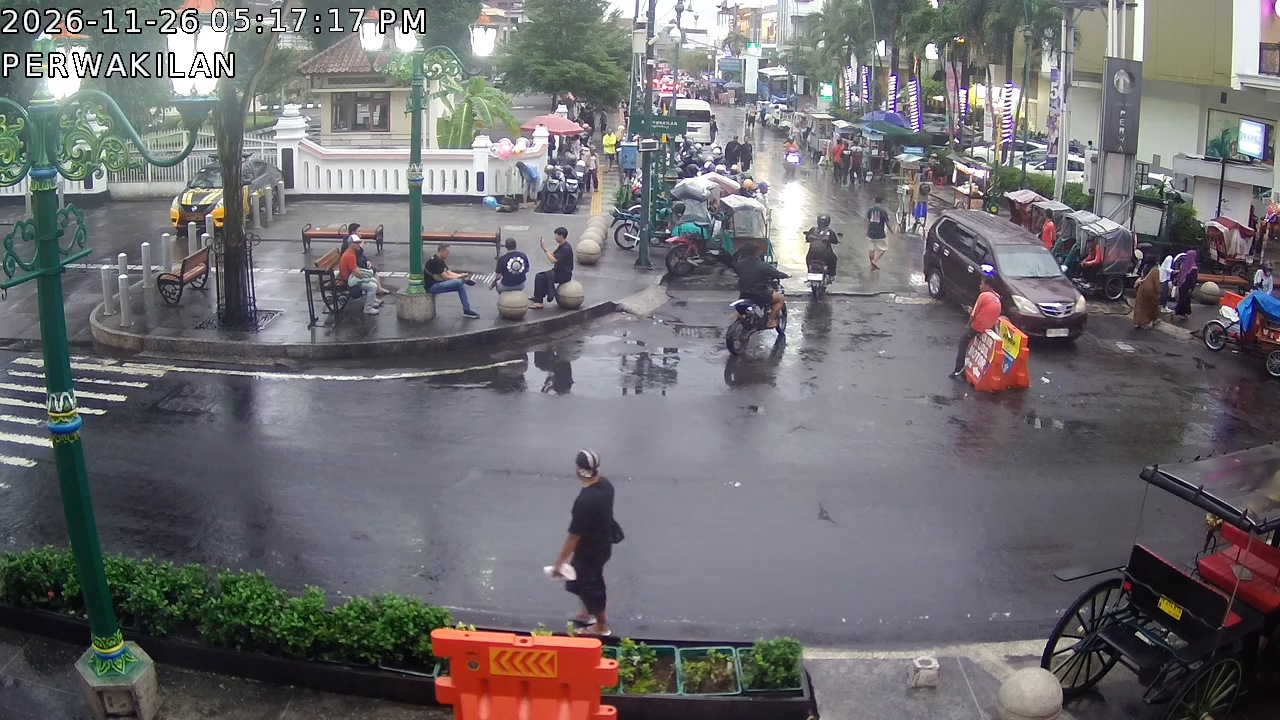Gerobak: (762, 105, 849, 172), (711, 190, 774, 261)
